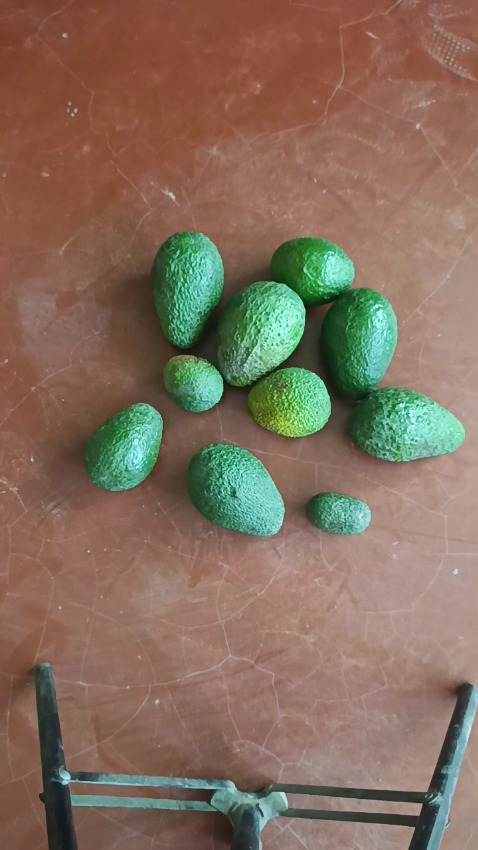Primera: (215, 280, 306, 386), (187, 443, 284, 534), (150, 231, 224, 350), (319, 287, 398, 397), (349, 387, 466, 461)
Segunda: (84, 402, 165, 491), (269, 236, 354, 306), (247, 367, 331, 437)
Tercera: (162, 354, 223, 413), (306, 492, 371, 534)
